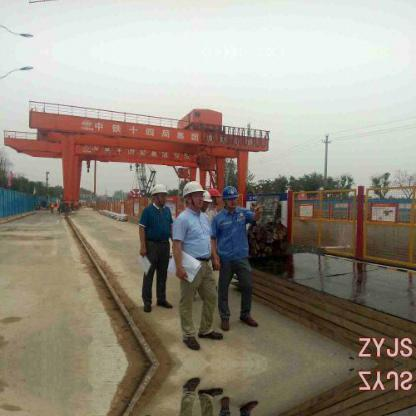helmet: (183, 179, 205, 199), (149, 181, 170, 199), (220, 184, 243, 200), (198, 188, 213, 205), (208, 186, 221, 197)
